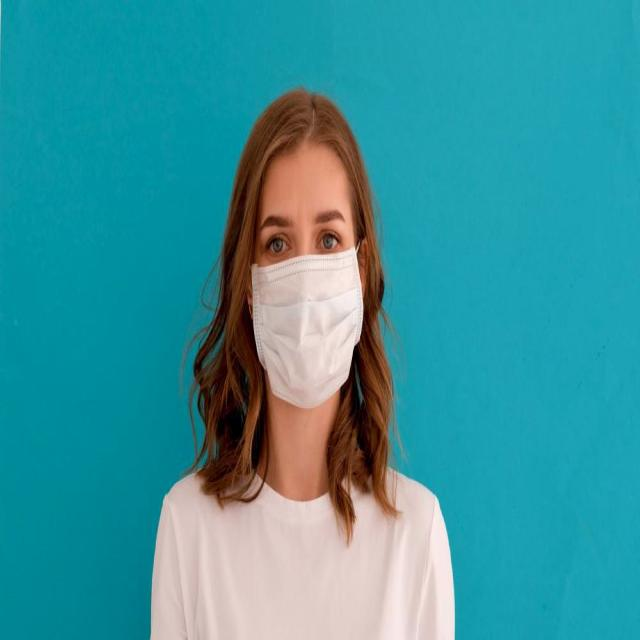adult: (150, 88, 456, 640)
